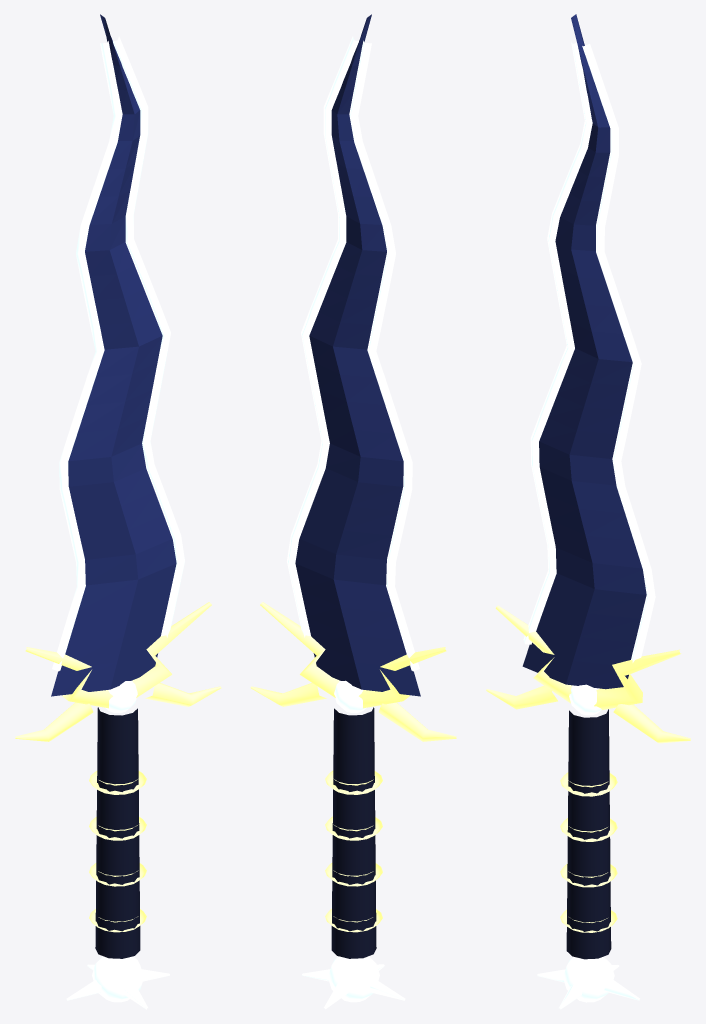
The model's file is dagger_8.glb.
3 renders of one model, left to right at view 1: azimuth 30°, elevation 25°; view 2: azimuth 150°, elevation 25°; view 3: azimuth 330°, elevation 25°, orthographic.
Visible parts, largest first — view 1: dagger_8; view 2: dagger_8; view 3: dagger_8.
Boxes of the visible parts, bbox=[...] form: dagger_8: bbox=[15, 14, 221, 1009]; dagger_8: bbox=[250, 14, 456, 1009]; dagger_8: bbox=[486, 14, 690, 1009].
Size of the model in its own units: 0.2003 by 0.917 by 0.1004.
